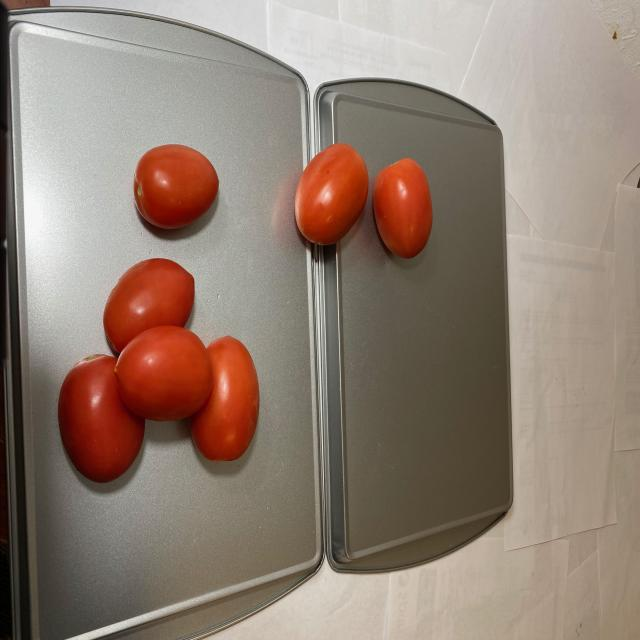tomato: (56, 136, 260, 490), (286, 145, 434, 258)
